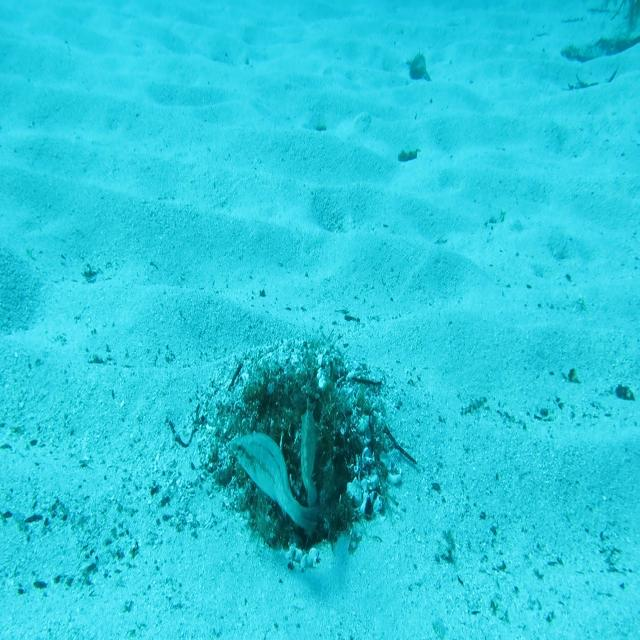FAN: (299, 393, 319, 510)
core_nest: (270, 389, 326, 435)
female: (228, 428, 320, 538)
nest: (190, 318, 410, 580)
vegetation: (558, 0, 640, 99), (407, 50, 430, 88), (397, 148, 419, 165)
